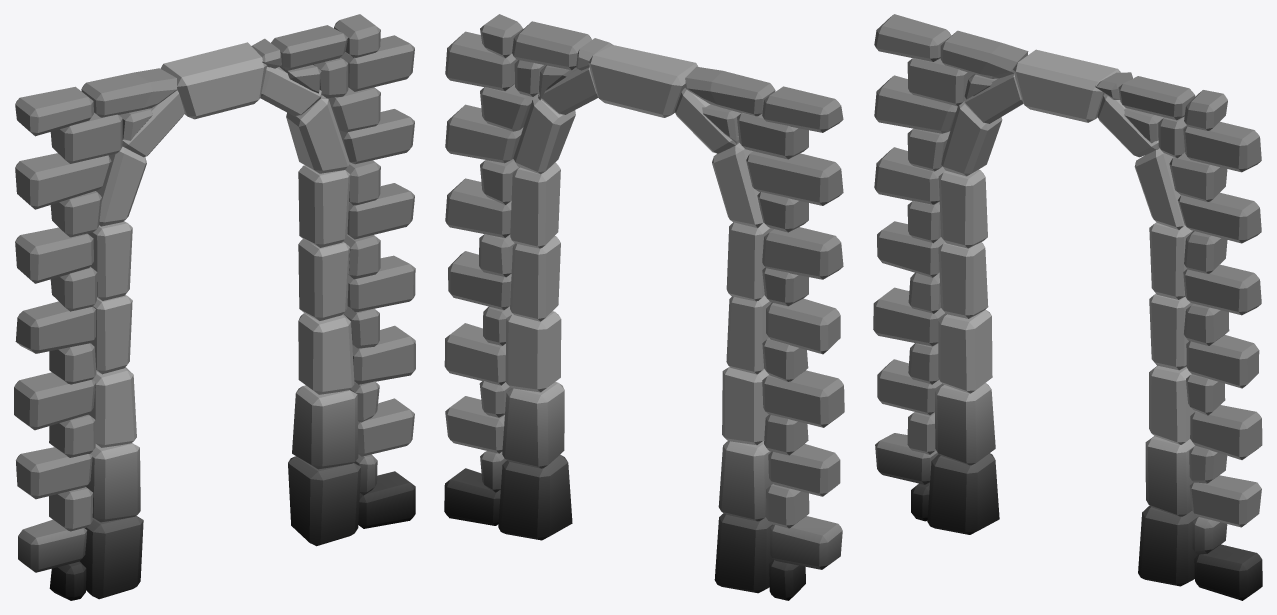
File: BrickArchway_02_1.5x2.75_Walled_2.75m.fbx
3 views of the same model, side by side, from view 1: azimuth 30°, elevation 25°; view 2: azimuth 150°, elevation 25°; view 3: azimuth 330°, elevation 25° (orthographic). The views are drawn at different scales.
Parts seen in each view (by area): view 1: BrickArchway_02_1.5x2.75_Walled_2.75m; view 2: BrickArchway_02_1.5x2.75_Walled_2.75m; view 3: BrickArchway_02_1.5x2.75_Walled_2.75m.
Boxes of the visible parts, bbox=[...] form: BrickArchway_02_1.5x2.75_Walled_2.75m: bbox=[14, 14, 415, 600]; BrickArchway_02_1.5x2.75_Walled_2.75m: bbox=[444, 14, 844, 600]; BrickArchway_02_1.5x2.75_Walled_2.75m: bbox=[873, 14, 1262, 600].
Size of the model in its own units: 222 by 277 by 30.04.
